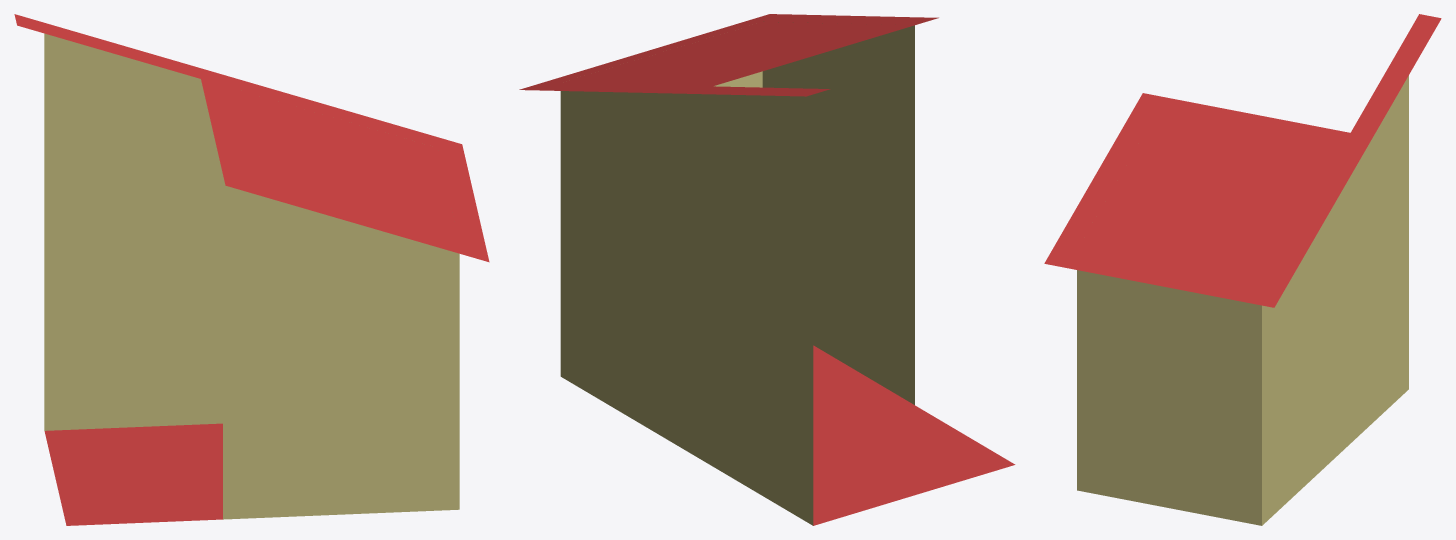
3 renders of one model, left to right at view 1: azimuth 30°, elevation 25°; view 2: azimuth 150°, elevation 25°; view 3: azimuth 270°, elevation 25°, orthographic. The views are drawn at different scales.
Size of the model in its own units: 8.91 by 8.04 by 8.16.
